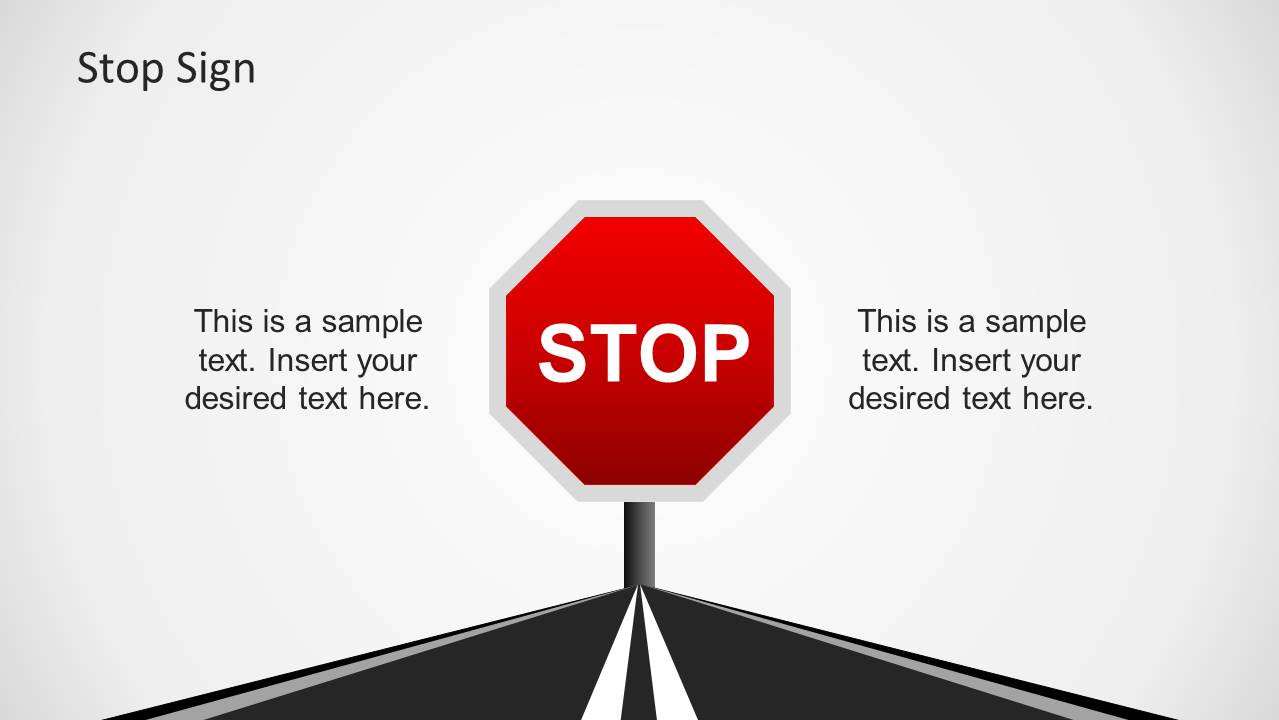stopsign: (492, 194, 796, 498)
